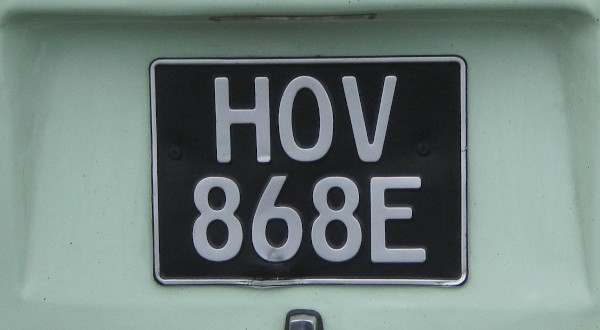license_plate: (148, 57, 468, 285)
